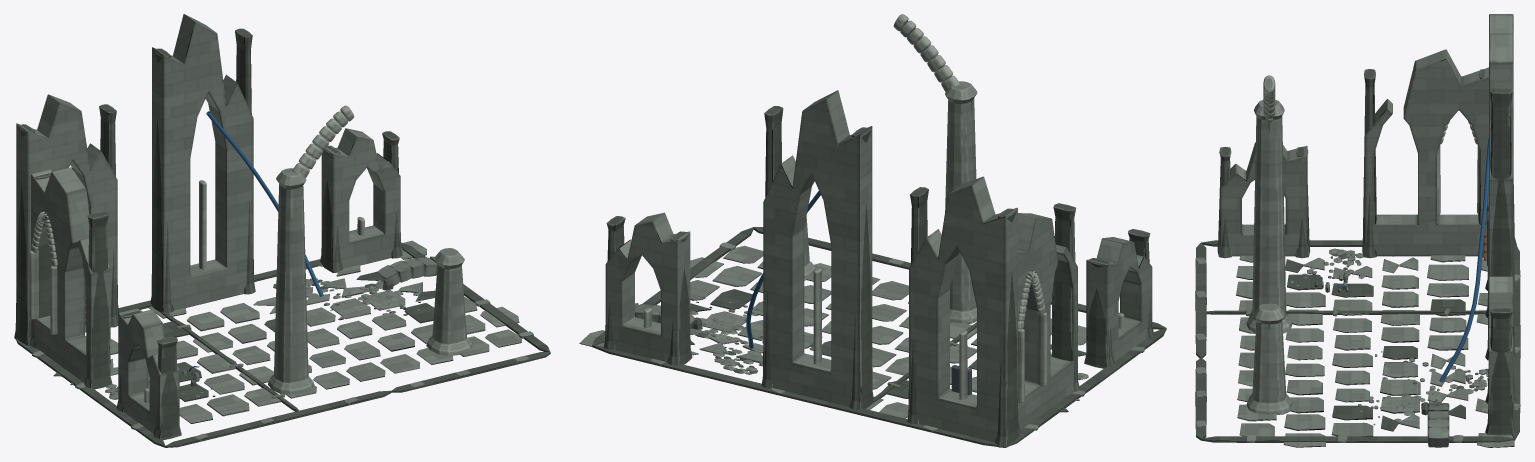
File: sanctum.glb
The picture shows the model from 3 angles, left to right: view 1: azimuth 30°, elevation 25°; view 2: azimuth 150°, elevation 25°; view 3: azimuth 270°, elevation 25°; orthographic projection. The views are drawn at different scales.
Visible parts, largest first — view 1: GT_0131_sanctum_Structure, GT_0131_sanctum_GroundContact; view 2: GT_0131_sanctum_Structure, GT_0131_sanctum_GroundContact; view 3: GT_0131_sanctum_Structure, GT_0131_sanctum_GroundContact.
Boxes of the visible parts, x1,y1,x2,y2 form: GT_0131_sanctum_Structure: [14, 14, 472, 440]; GT_0131_sanctum_GroundContact: [16, 240, 550, 447]; GT_0131_sanctum_Structure: [603, 14, 1153, 447]; GT_0131_sanctum_GroundContact: [579, 227, 1166, 446]; GT_0131_sanctum_Structure: [1217, 14, 1517, 447]; GT_0131_sanctum_GroundContact: [1195, 240, 1520, 447].
Size of the model in its own units: 18.1 by 12.13 by 11.92.
1 material, 1 textured.
